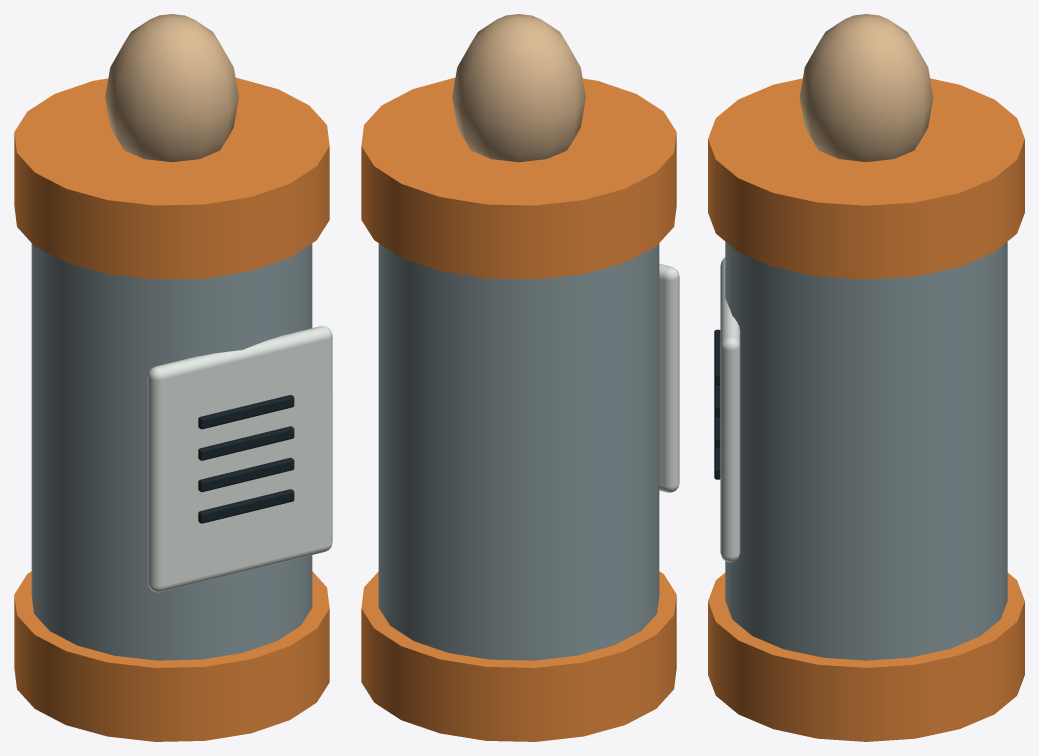
The model's file is field-sample.glb.
The picture shows the model from 3 angles, left to right: view 1: azimuth 30°, elevation 25°; view 2: azimuth 150°, elevation 25°; view 3: azimuth 270°, elevation 25°; orthographic projection.
Visible parts, largest first — view 1: orange, metal, white, pale, dark; view 2: metal, orange, pale, white; view 3: metal, orange, pale, white, dark.
Part boxes in pixels (x1,y1,x2,y2): orange: [14, 77, 329, 741]; metal: [31, 243, 312, 660]; white: [147, 326, 332, 592]; pale: [105, 14, 238, 162]; dark: [198, 395, 294, 523]; metal: [378, 243, 659, 660]; orange: [361, 77, 676, 741]; pale: [452, 14, 585, 162]; white: [659, 264, 679, 492]; metal: [725, 242, 1007, 660]; orange: [708, 78, 1024, 741]; pale: [799, 14, 933, 161]; white: [720, 257, 740, 562]; dark: [714, 329, 720, 479].
Bounding box in the file's own units: 0.128 × 0.2925 × 0.128.
